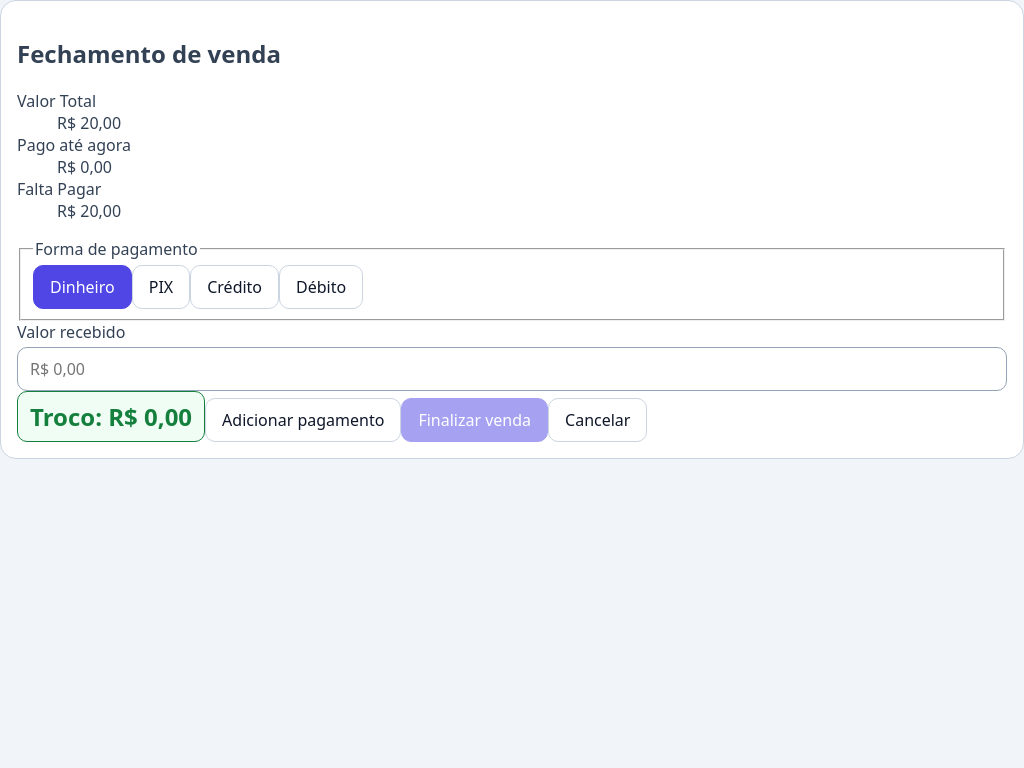
Test: PaymentModal › recusa valor acima da falta fora do dinheiro
Step 1. Click the button "PIX" → {"x": 161, "y": 287}, box [132,265,190,309]
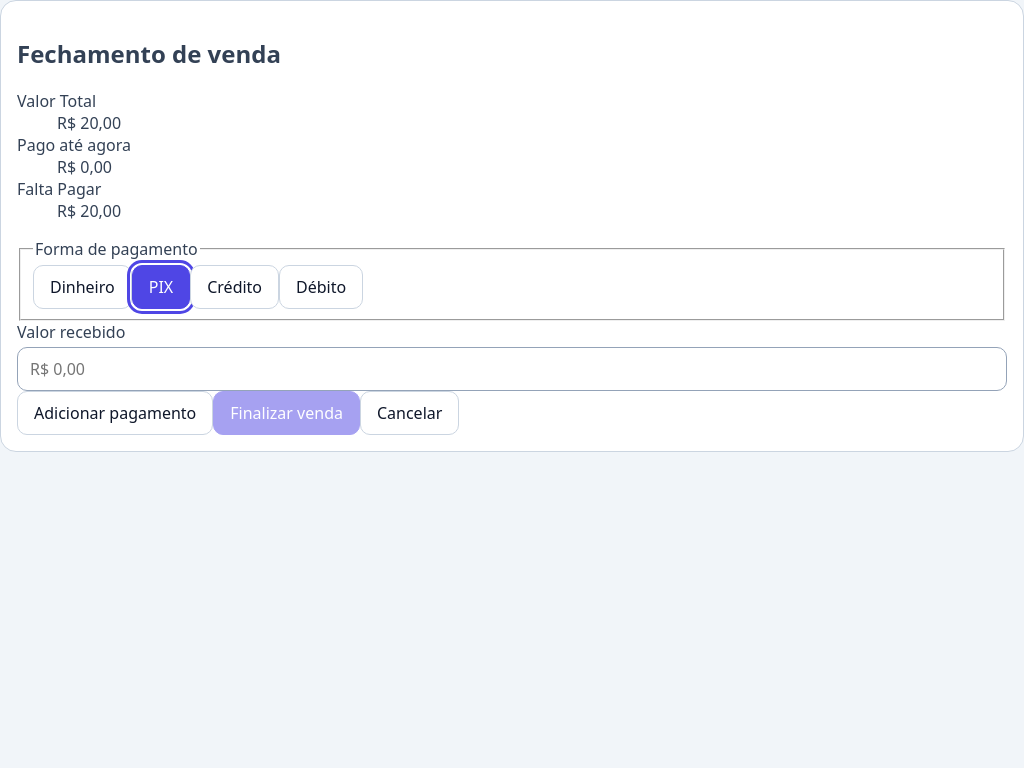
Step 2. Type "5000" into the field labelled "Valor recebido" → {"x": 512, "y": 369}, box [17,347,1007,391]
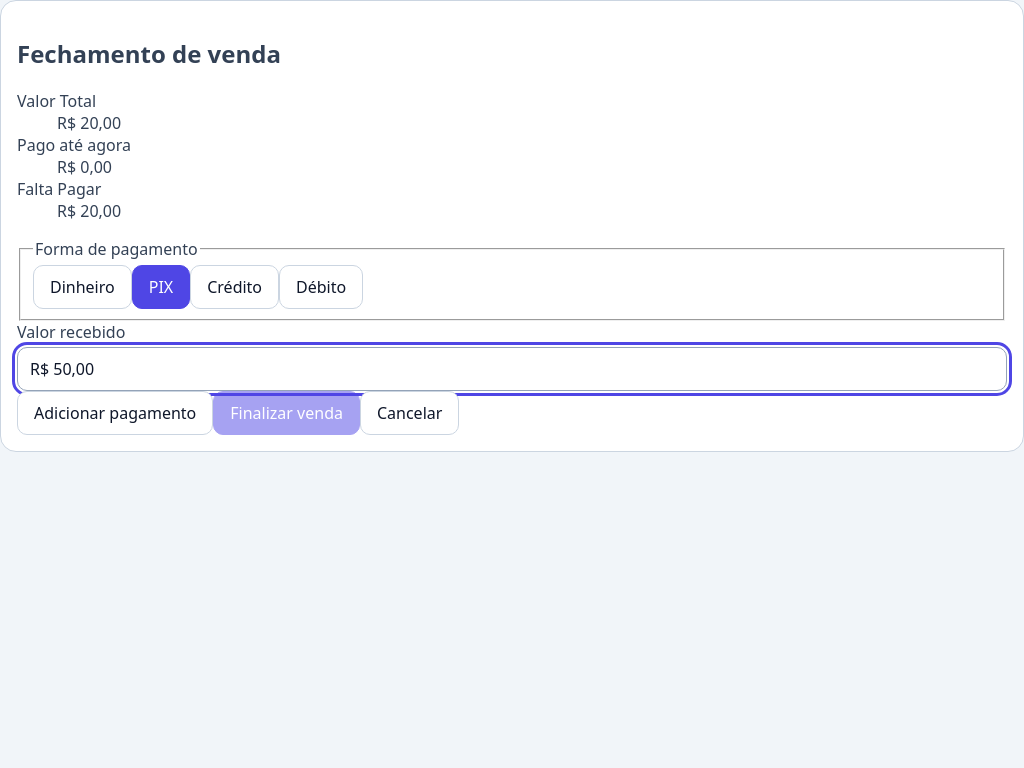
Step 3. Click the button "Adicionar pagamento" → {"x": 115, "y": 413}, box [17,391,213,435]
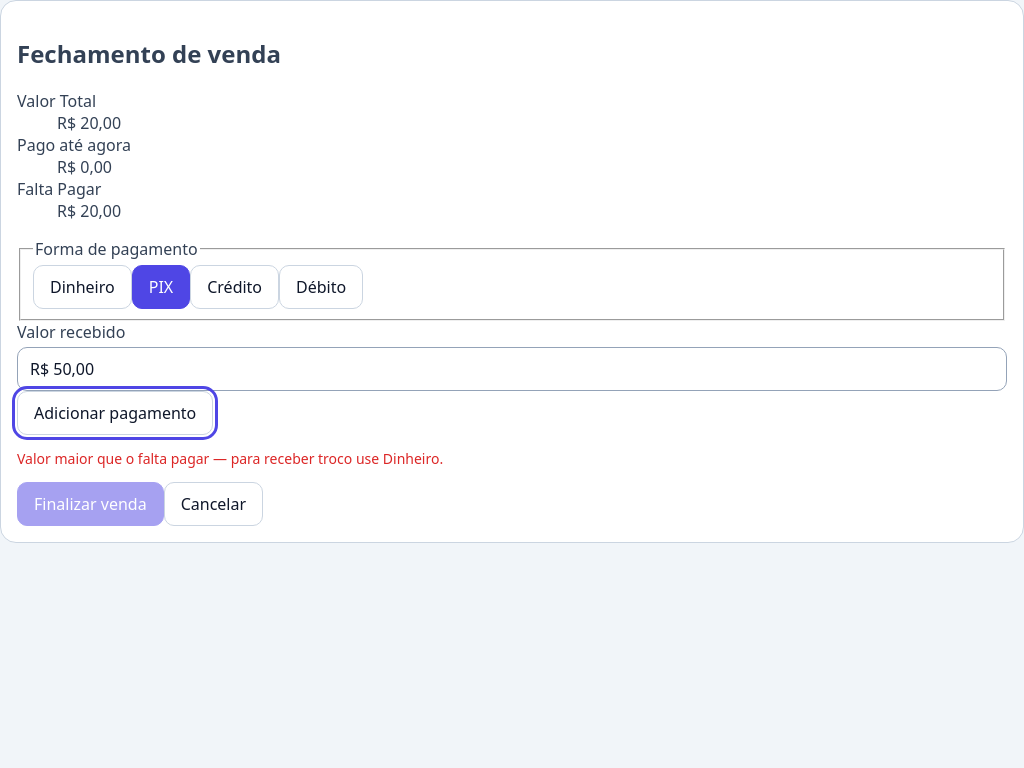
Expected: the text "R$ 20,00" below "Valor Total" is shown, [57,112,121,134]
Expected: the message shows "use Dinheiro", [17,449,443,468]
